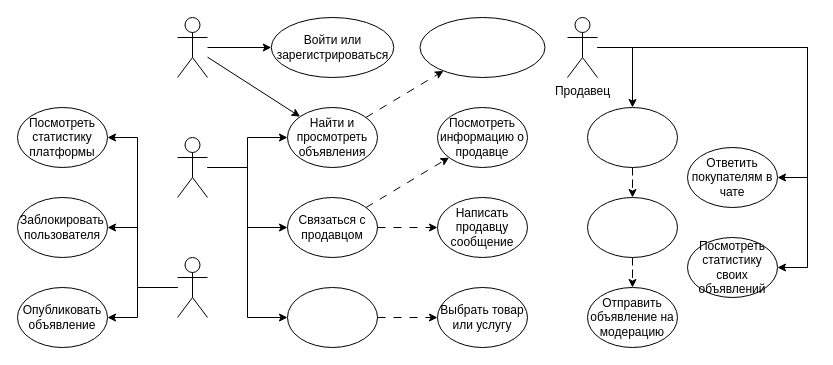
Some shapes in this 833 by 365 pixel diagram are drawn without their labels. Here are the shapes that lost their labels. From the top down, the centre of each, then its label:
At [192,47]: "Гость".
At [482,47]: "Посмотеть подробную информации об объявлении".
At [632,137]: "Создать объявление".
At [192,167]: "Пользователь".
At [632,227]: "Заполнить форму".
At [192,287]: "Администратор".
At [332,317]: "Оплатить товар или услугу".
